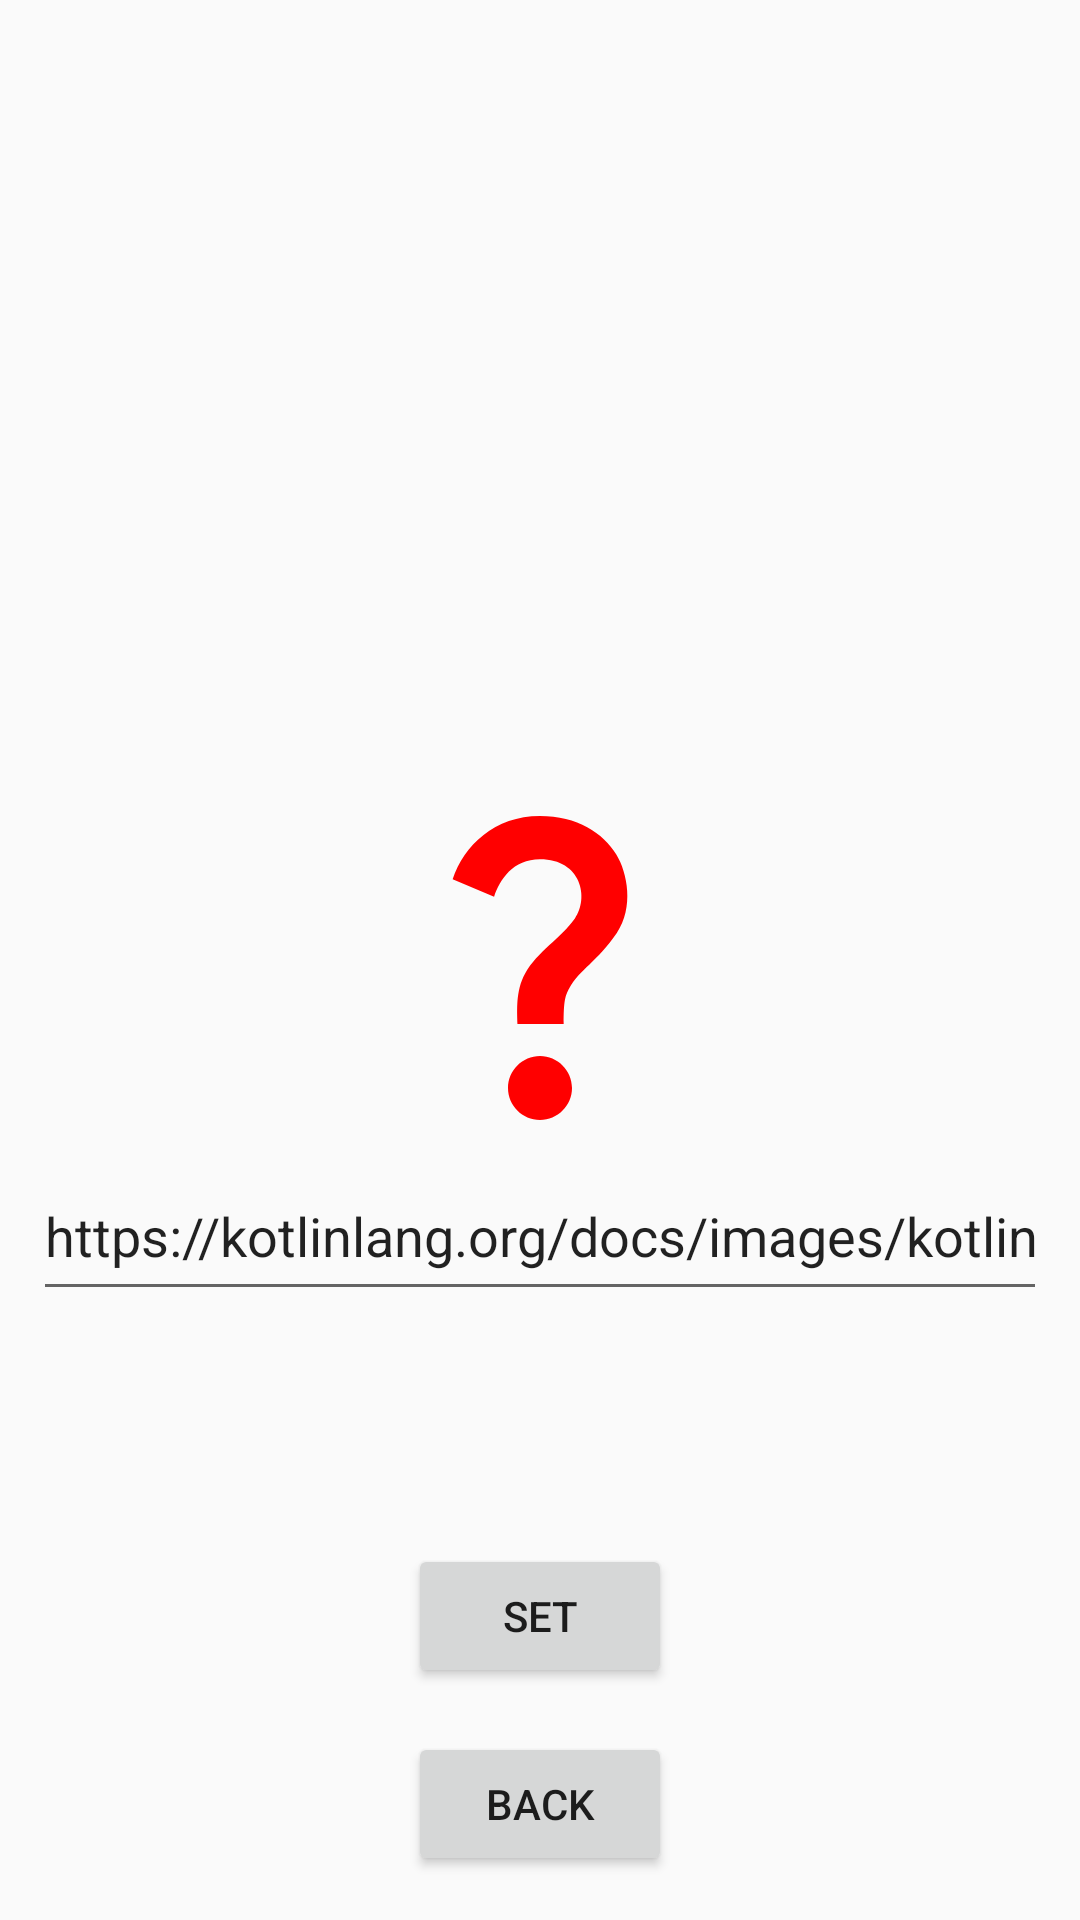

Icons on this 1080x1920 Android screen, each with its box as {"x1": x1, "y1": y1, "x2": x2, "y2": y2}:
question mark: {"x1": 452, "y1": 816, "x2": 628, "y2": 1120}
